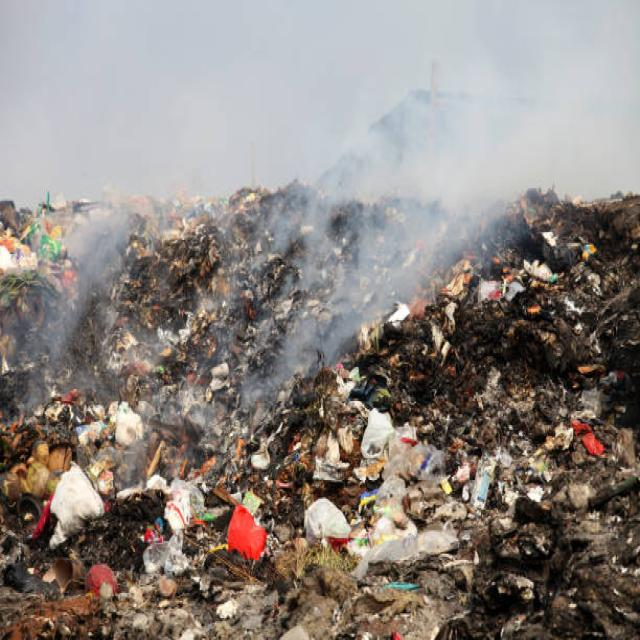plastic: (5, 193, 636, 640), (48, 458, 498, 640)
